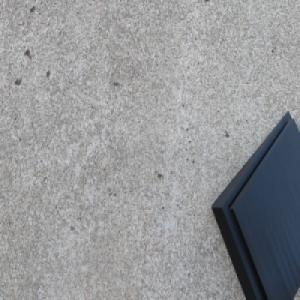PlasticPart: (209, 107, 300, 300)
